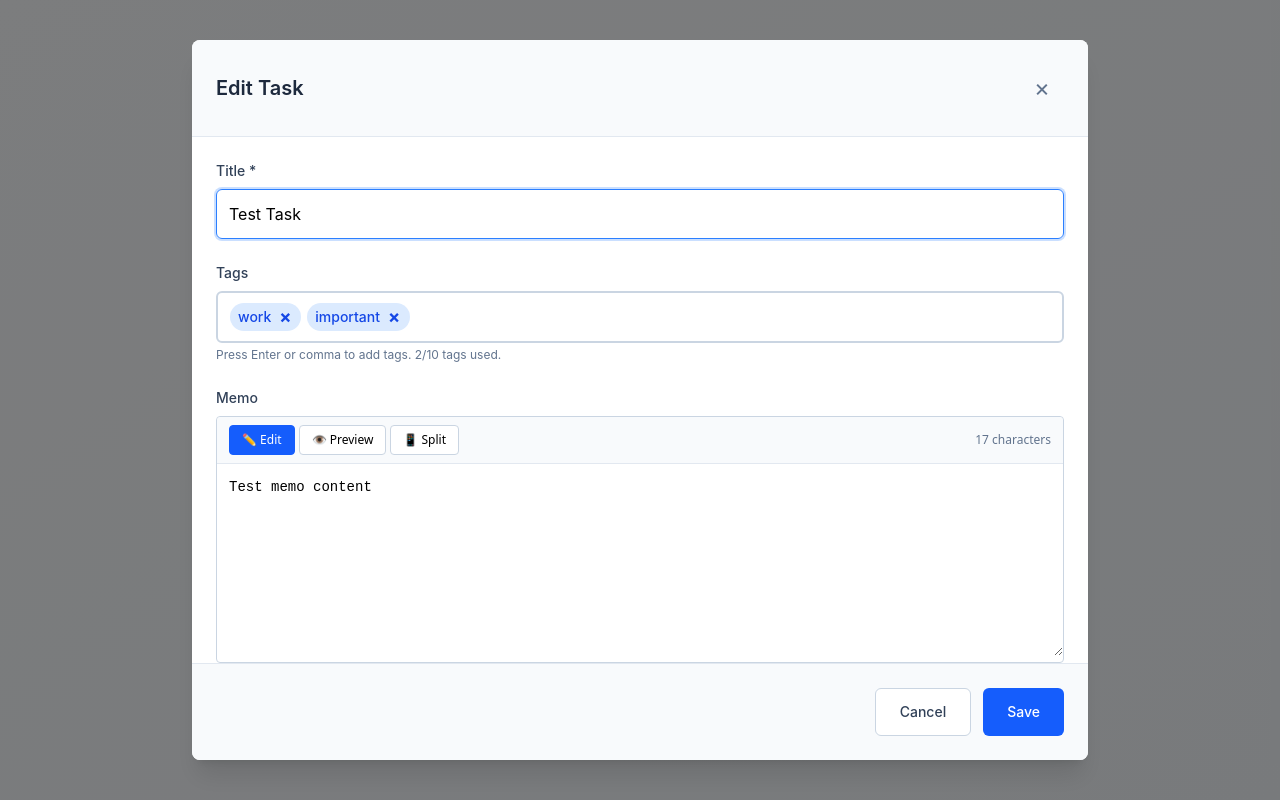
it: EditTaskModal Component › handles save errors gracefully
Note: Change the title
Replace the text in the field showing "Test Task" with "Updated Task" at (640, 214), box [216,189,1064,239]
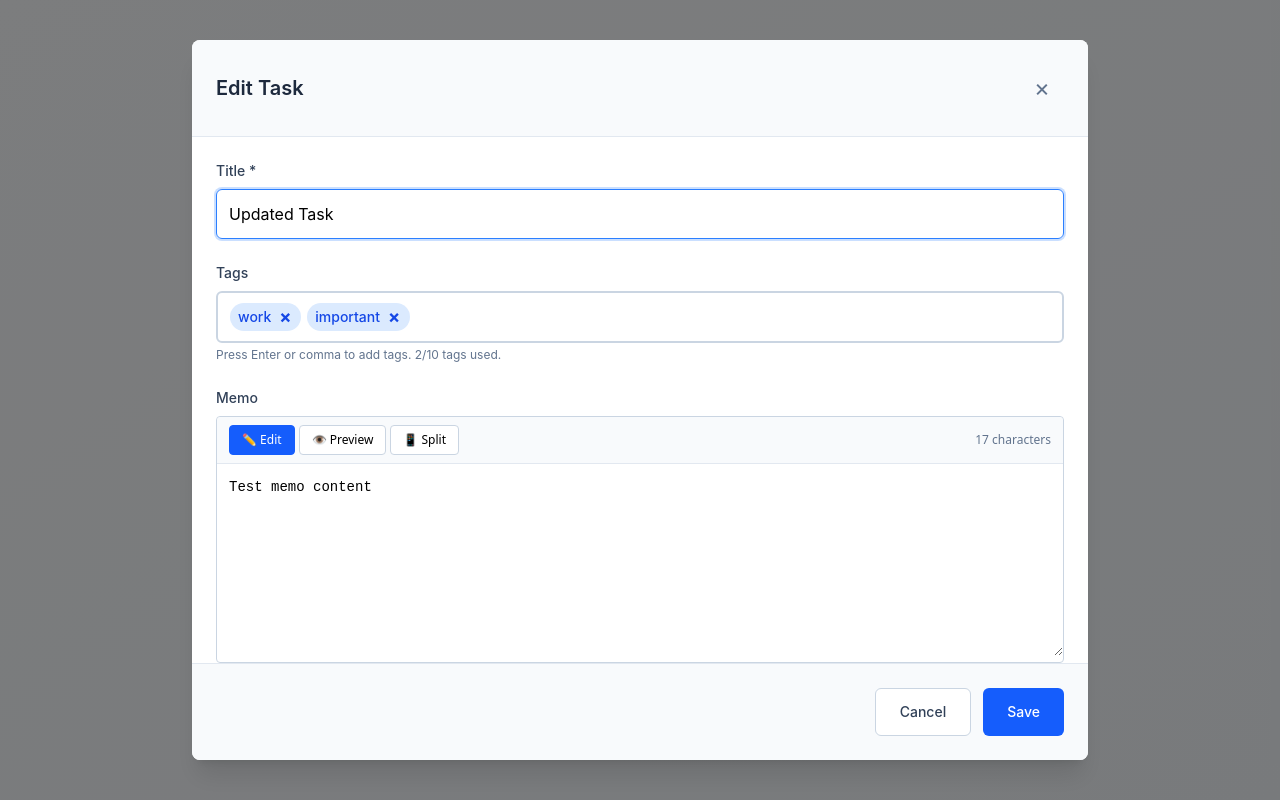
Note: Click save
Click the button "Save".
click(1024, 712)  # box [983,688,1064,736]
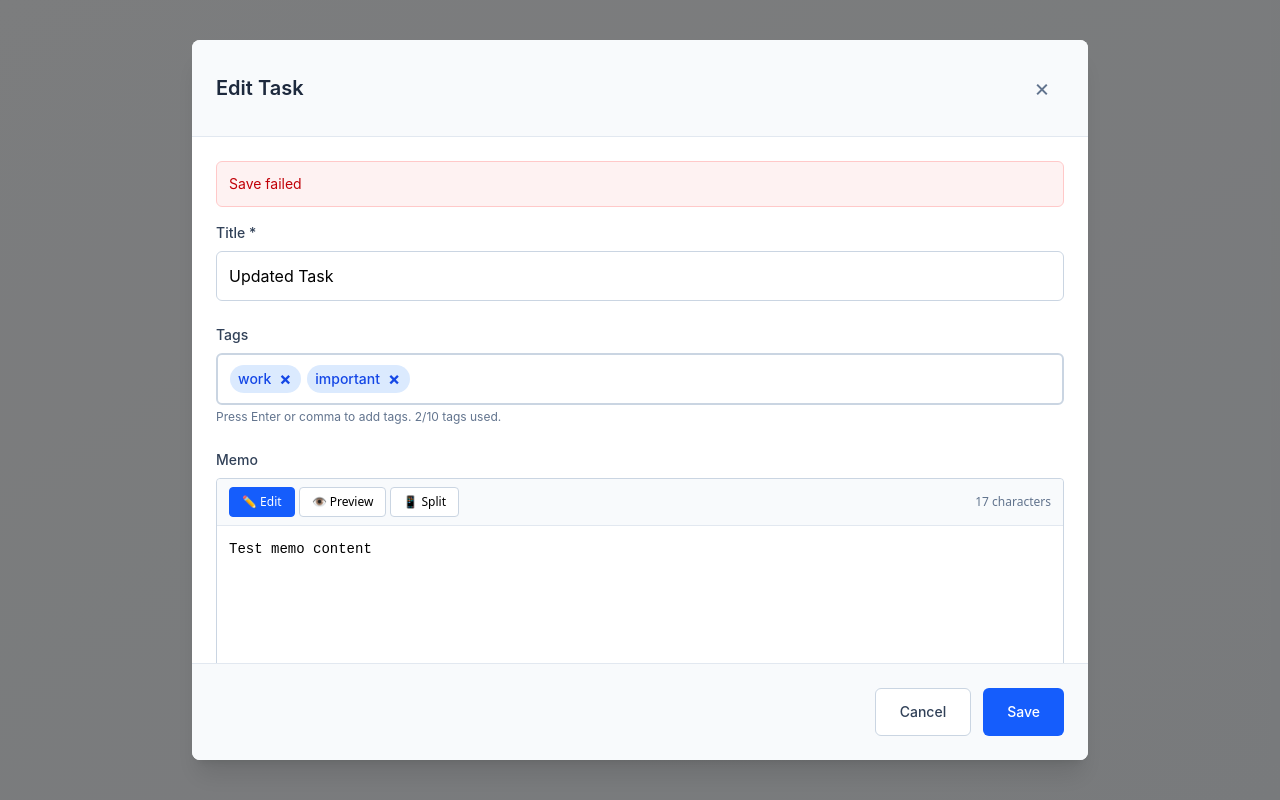
Result: the text "Save failed" is shown at [216,161,1064,207]
